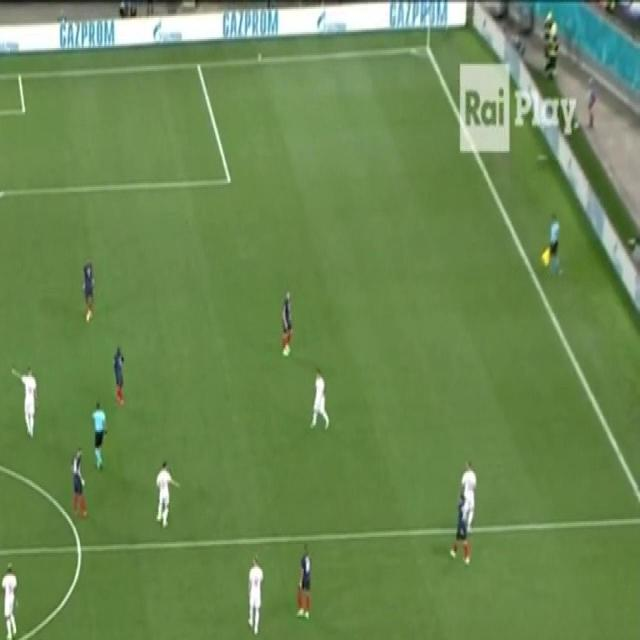player-white: (7, 361, 40, 442), (447, 488, 473, 571), (153, 458, 181, 531), (457, 455, 479, 541), (70, 444, 92, 524), (307, 365, 332, 435), (246, 549, 265, 640), (294, 540, 314, 624), (0, 556, 19, 640), (89, 398, 109, 476), (278, 286, 296, 364), (80, 254, 96, 324), (111, 340, 127, 410), (547, 210, 562, 284)
